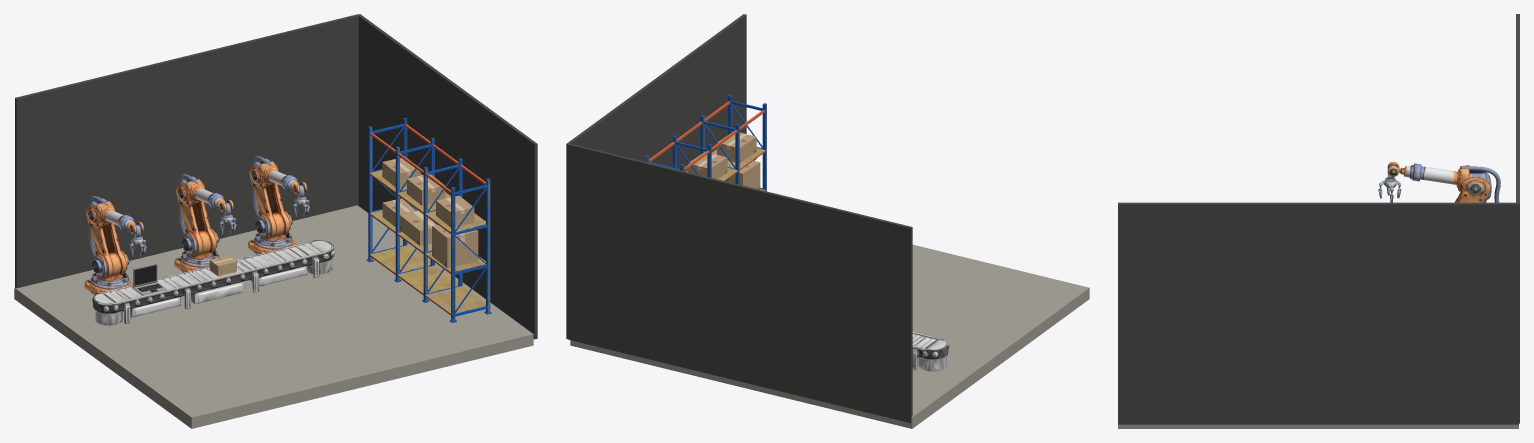
Rendered from ingenieriaIndustrial.glb.
3 renders of one model, left to right at view 1: azimuth 30°, elevation 25°; view 2: azimuth 150°, elevation 25°; view 3: azimuth 270°, elevation 25°, orthographic. The views are drawn at different scales.
Visible parts, largest first — view 1: Cube.001, Cube, Cube.002, Storage_Rack_Solid Glass_0, Mesh_0, Mesh_0.001, Mesh_0.003, Mesh_0.002, CardboardBox_LP_lambert1_0.004, CardboardBox_LP_lambert1_0.006, CardboardBox_LP, CardboardBox_LP_lambert1_0.002 (+1 smaller); view 2: Cube.001, Cube, Cube.002, Storage_Rack_Solid Glass_0, Mesh_0, CardboardBox_LP_lambert1_0.006, CardboardBox_LP_lambert1_0.002, CardboardBox_LP_lambert1_0.004; view 3: Cube.002, Mesh_0.003, Cube, Cube.001.
Boxes of the visible parts, x1,y1,x2,y2 form: Cube.001: (15, 14, 358, 288); Cube: (14, 205, 533, 428); Cube.002: (358, 14, 537, 339); Storage_Rack_Solid Glass_0: (366, 117, 491, 322); Mesh_0: (92, 240, 334, 325); Mesh_0.001: (248, 156, 309, 254); Mesh_0.003: (84, 196, 146, 294); Mesh_0.002: (174, 174, 236, 272); CardboardBox_LP_lambert1_0.004: (432, 224, 478, 268); CardboardBox_LP_lambert1_0.006: (436, 195, 474, 227); CardboardBox_LP: (399, 210, 436, 245); CardboardBox_LP_lambert1_0.002: (407, 174, 445, 205); Cube.001: (568, 143, 912, 423); Cube: (570, 244, 1089, 428); Cube.002: (566, 14, 746, 338); Storage_Rack_Solid Glass_0: (645, 94, 766, 191); Mesh_0: (912, 331, 949, 371); CardboardBox_LP_lambert1_0.006: (717, 132, 756, 162); CardboardBox_LP_lambert1_0.002: (688, 151, 727, 179); CardboardBox_LP_lambert1_0.004: (726, 160, 760, 189); Cube.002: (1118, 202, 1518, 424); Mesh_0.003: (1378, 161, 1500, 202); Cube: (1118, 424, 1518, 428); Cube.001: (1516, 14, 1519, 423).
Bounding box in the file's own units: 13.96 × 7.74 × 12.43.
17 materials, 12 textured.
